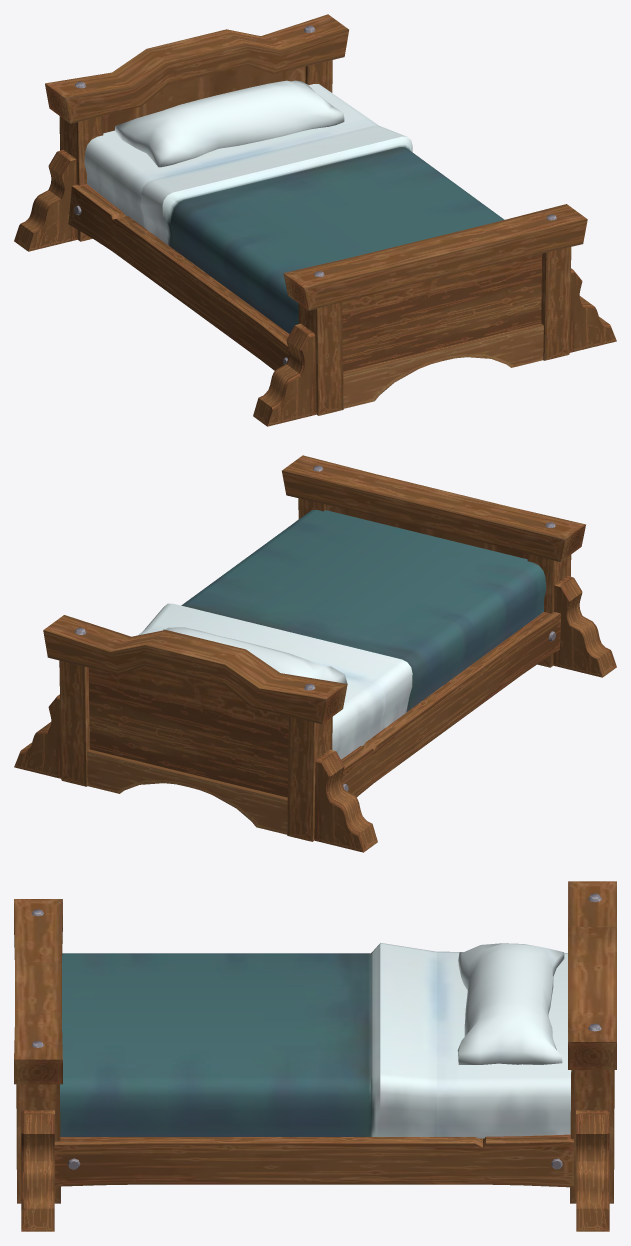
The model's file is Bed_Twin1.glb.
3 renders of one model, top to bottom at view 1: azimuth 30°, elevation 25°; view 2: azimuth 150°, elevation 25°; view 3: azimuth 270°, elevation 25°, orthographic. The views are drawn at different scales.
Parts seen in each view (by area): view 1: Bed_Twin1; view 2: Bed_Twin1; view 3: Bed_Twin1.
Part boxes in pixels (bbox=[...]): Bed_Twin1: bbox=[14, 14, 616, 426]; Bed_Twin1: bbox=[14, 455, 616, 852]; Bed_Twin1: bbox=[14, 881, 616, 1231].
Size of the model in its own units: 1.88 by 0.805 by 2.41.
3 materials, 3 textured.
